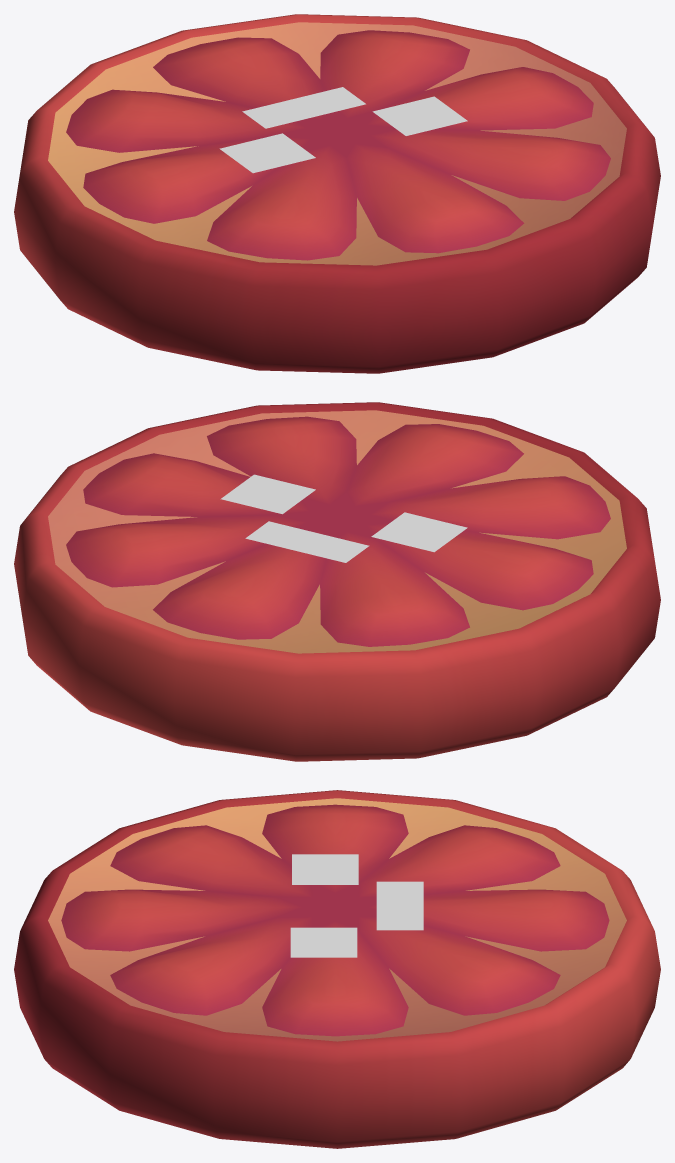
Rendered from grapefruit_slice_smile.fbx.
3 renders of one model, top to bottom at view 1: azimuth 30°, elevation 25°; view 2: azimuth 150°, elevation 25°; view 3: azimuth 270°, elevation 25°, orthographic.
Parts seen in each view (by area): view 1: grapefruit; view 2: grapefruit; view 3: grapefruit.
Part boxes in pixels (left/top/right/bottom): grapefruit: left=14, top=14, right=660, bottom=373; grapefruit: left=14, top=402, right=660, bottom=761; grapefruit: left=14, top=790, right=660, bottom=1148.
Size of the model in its own units: 48.75 by 10.88 by 48.75.
